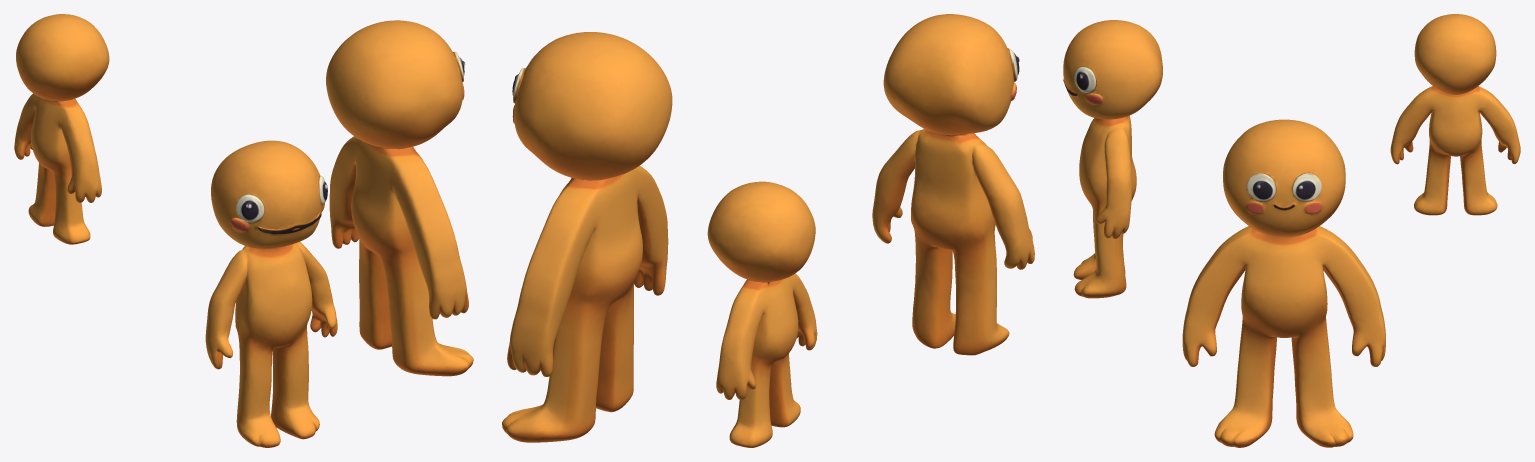
File: figure_sheet.glb
The picture shows the model from 3 angles, left to right: view 1: azimuth 30°, elevation 25°; view 2: azimuth 150°, elevation 25°; view 3: azimuth 270°, elevation 25°; orthographic projection. The views are drawn at different scales.
Visible parts, largest first — view 1: world; view 2: world; view 3: world.
Boxes of the visible parts, bbox=[...] form: world: bbox=[14, 14, 473, 447]; world: bbox=[502, 14, 1034, 447]; world: bbox=[1063, 14, 1520, 447].
Bounding box in the file's own units: 0.7901 × 0.7378 × 0.9998.
Materials: 1 (1 with a texture image).
